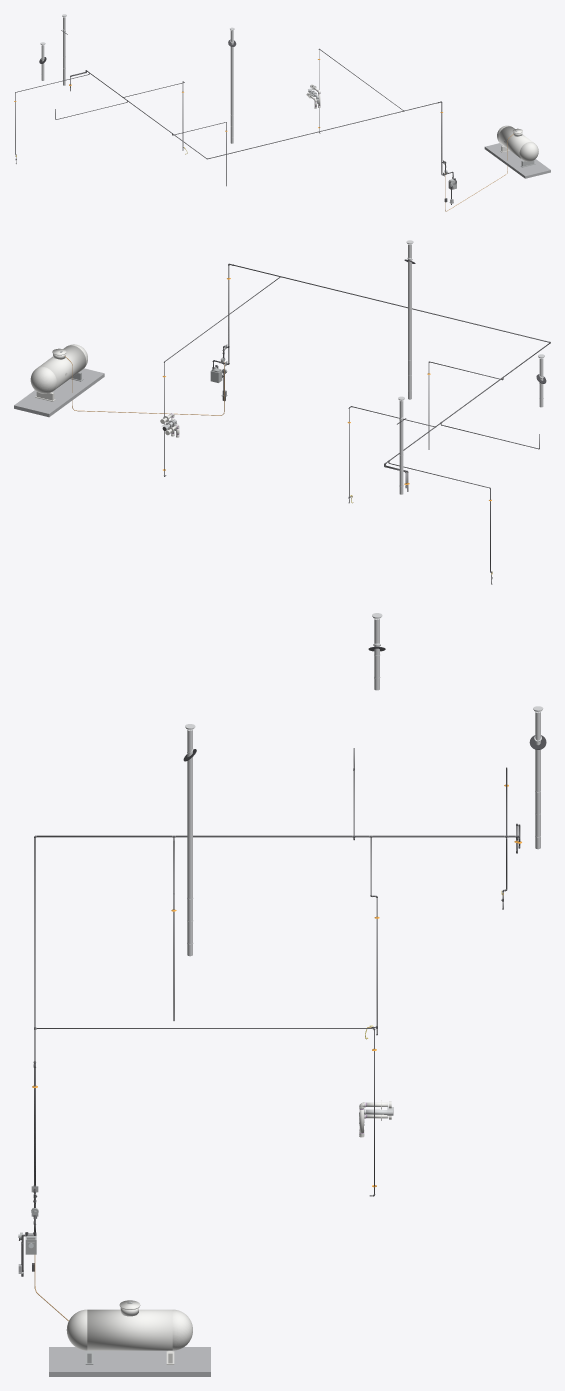
The model's file is pipes_gas.glb.
The picture shows the model from 3 angles, top to bottom: view 1: azimuth 30°, elevation 25°; view 2: azimuth 150°, elevation 25°; view 3: azimuth 270°, elevation 25°; orthographic projection. The views are drawn at different scales.
Visible parts, largest first — view 1: fix_propane_tank, pipe_gas_main, vent_gas_wh_flue_closet; view 2: fix_propane_tank, pipe_gas_main, vent_gas_wh_flue_closet, vent_gas_furnace_flue; view 3: fix_propane_tank, pipe_gas_main, vent_gas_wh_flue_closet, vent_gas_furnace_flue.
Part boxes in pixels (x1,y1,x2,y2): fix_propane_tank: (484, 125, 550, 178); pipe_gas_main: (87, 71, 437, 159); vent_gas_wh_flue_closet: (228, 27, 236, 143); fix_propane_tank: (14, 344, 104, 417); pipe_gas_main: (234, 265, 550, 462); vent_gas_wh_flue_closet: (404, 240, 415, 399); vent_gas_furnace_flue: (397, 396, 406, 494); fix_propane_tank: (49, 1300, 210, 1376); pipe_gas_main: (34, 835, 514, 1060); vent_gas_wh_flue_closet: (183, 724, 196, 956); vent_gas_furnace_flue: (529, 706, 546, 849).
Bounding box in the file's own units: 18.35 × 8.09 × 9.78.
